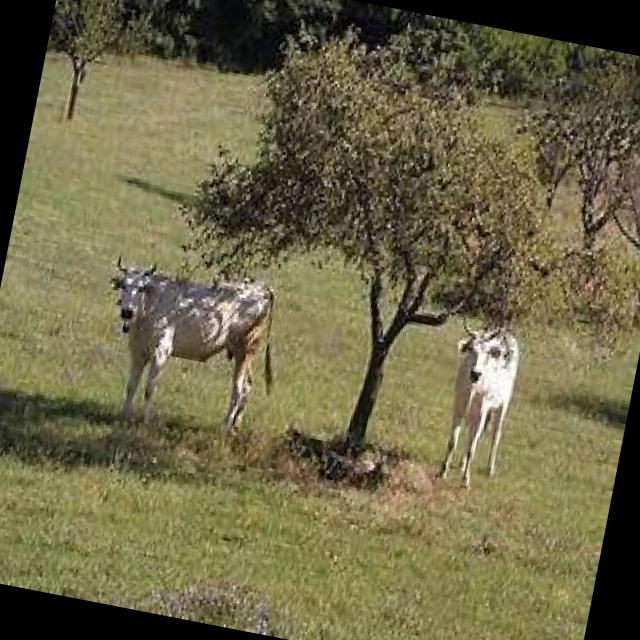animal: (82, 250, 290, 448), (428, 314, 525, 494)
